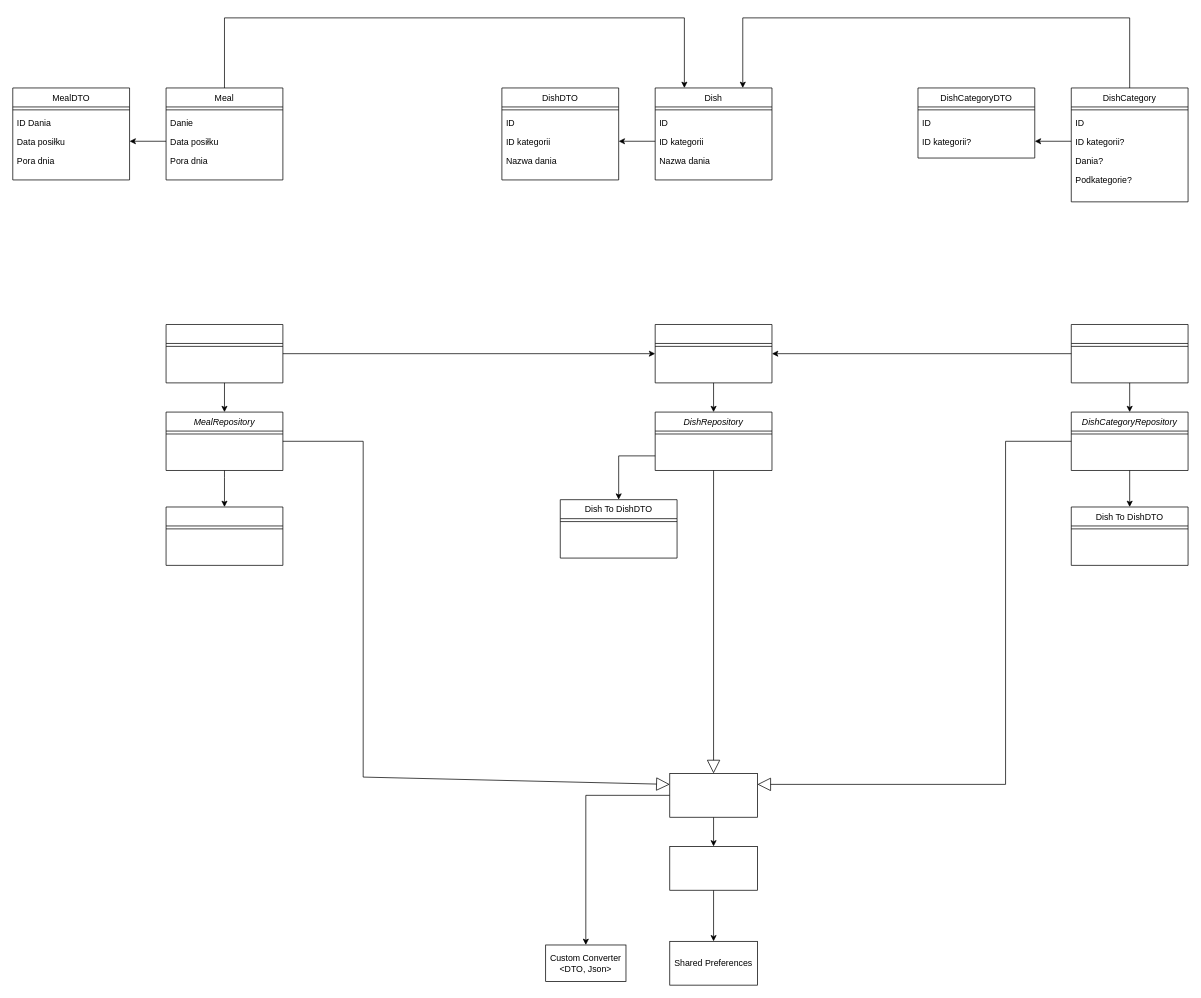
Some shapes in this 1201 by 998 pixel diagram are drawn without their labels. Each missing label, with the centre of its shape:
Connector: the point at 713,868
DishCategoryService: the point at 1129,353
DishService: the point at 713,353
Meal To MealDTO: the point at 224,535
MealService: the point at 224,353
Shared Preferences Crud Repository: the point at 713,795
